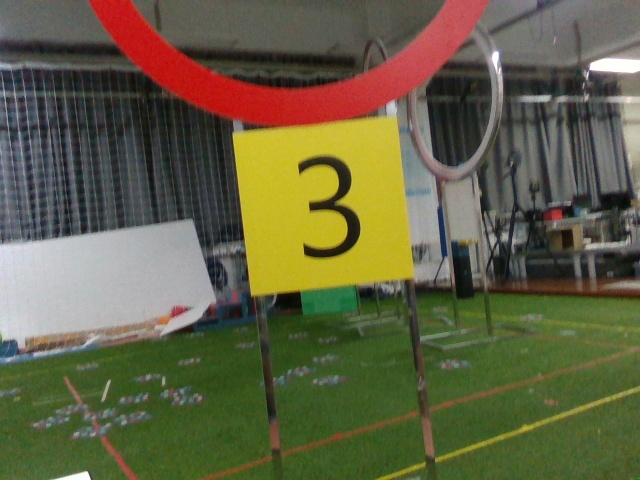target: (243, 126, 407, 281)
